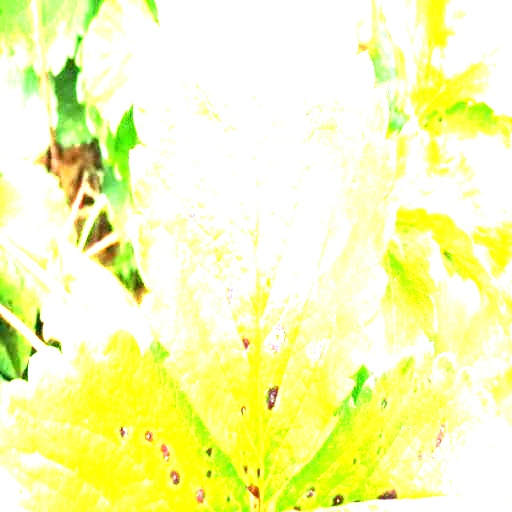Leaf Spot: (128, 0, 398, 507), (0, 323, 258, 511), (268, 342, 511, 511), (392, 0, 511, 119), (425, 273, 511, 420), (82, 0, 161, 139), (415, 99, 511, 187)
